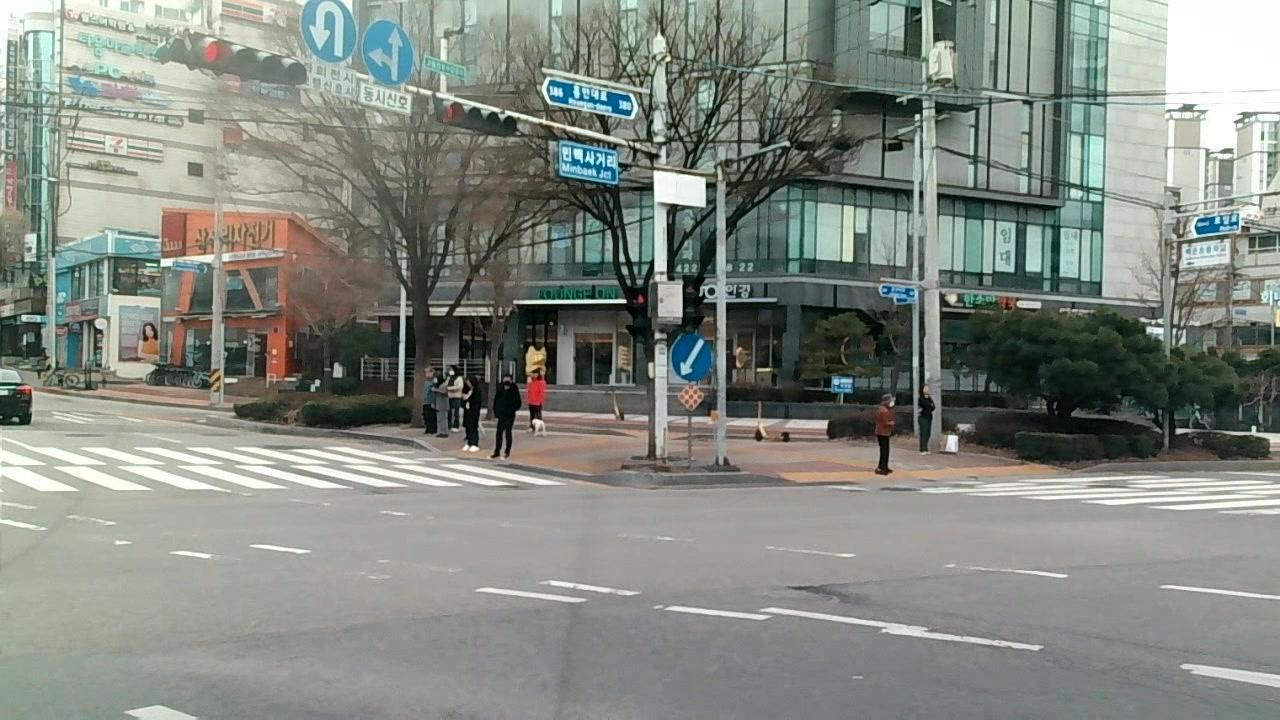vcrack: (792, 574, 880, 609)
